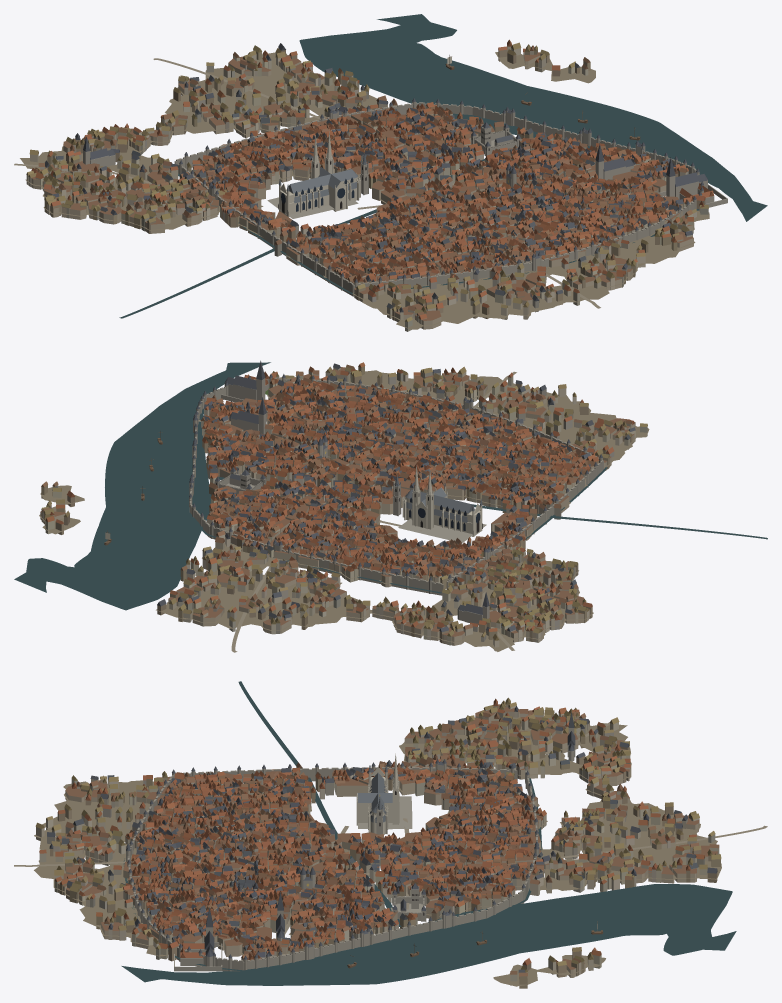
The model's file is bordeaux.glb.
3 views of the same model, one above another, from view 1: azimuth 30°, elevation 25°; view 2: azimuth 150°, elevation 25°; view 3: azimuth 270°, elevation 25° (orthographic). The views are drawn at different scales.
Parts seen in each view (by area): view 1: houses, ground, blocks, landmarks; view 2: houses, ground, blocks, landmarks; view 3: houses, ground, blocks, landmarks.
Boxes of the visible parts, left/top/right/bottom form: houses: left=26, top=39, right=708, bottom=331; ground: left=14, top=14, right=767, bottom=329; blocks: left=31, top=52, right=693, bottom=329; landmarks: left=83, top=55, right=727, bottom=296; houses: left=41, top=362, right=647, bottom=651; ground: left=14, top=362, right=767, bottom=652; blocks: left=40, top=367, right=635, bottom=645; landmarks: left=104, top=360, right=607, bottom=625; houses: left=35, top=697, right=721, bottom=988; ground: left=14, top=681, right=767, bottom=986; blocks: left=57, top=704, right=717, bottom=977; landmarks: left=123, top=712, right=603, bottom=971.
Bounding box in the file's own units: 10.84 × 1.13 × 11.3.
